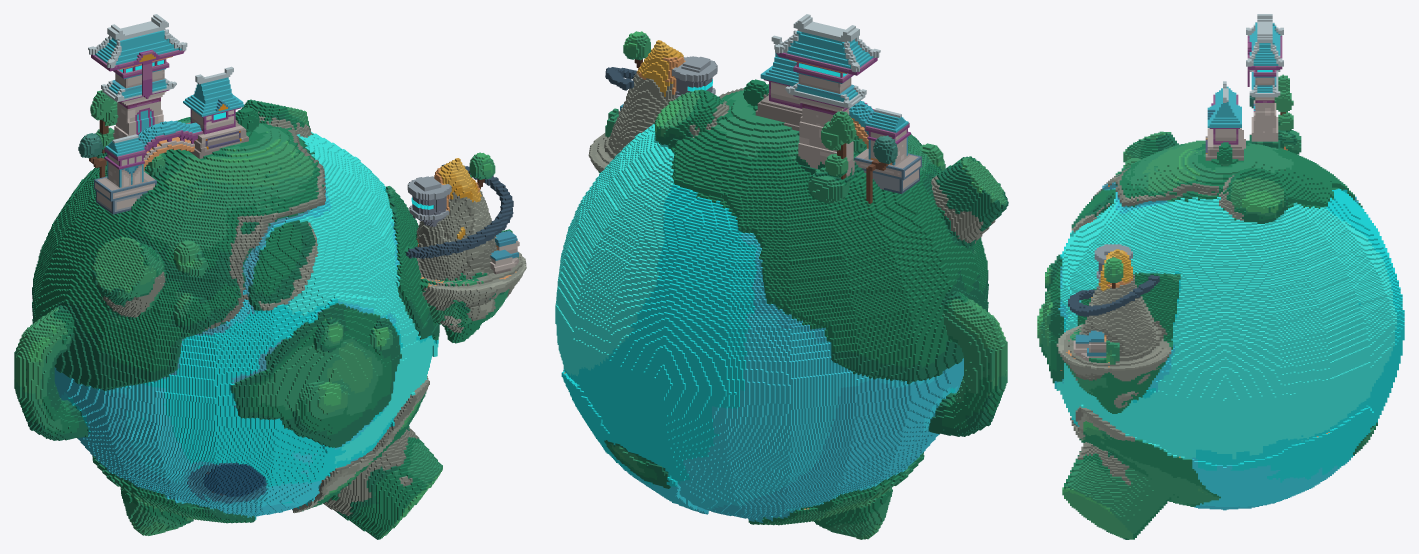
File: 古代星球.glb
The picture shows the model from 3 angles, left to right: view 1: azimuth 30°, elevation 25°; view 2: azimuth 150°, elevation 25°; view 3: azimuth 270°, elevation 25°; orthographic projection. The views are drawn at different scales.
Parts seen in each view (by area): view 1: 古代星球; view 2: 古代星球; view 3: 古代星球.
Part boxes in pixels (x1,y1,x2,y2): 古代星球: (14, 14, 526, 539); 古代星球: (555, 14, 1008, 539); 古代星球: (1037, 14, 1404, 539).
Bounding box in the file's own units: 23.8 × 25.6 × 19.2.
2 materials, 2 textured.
